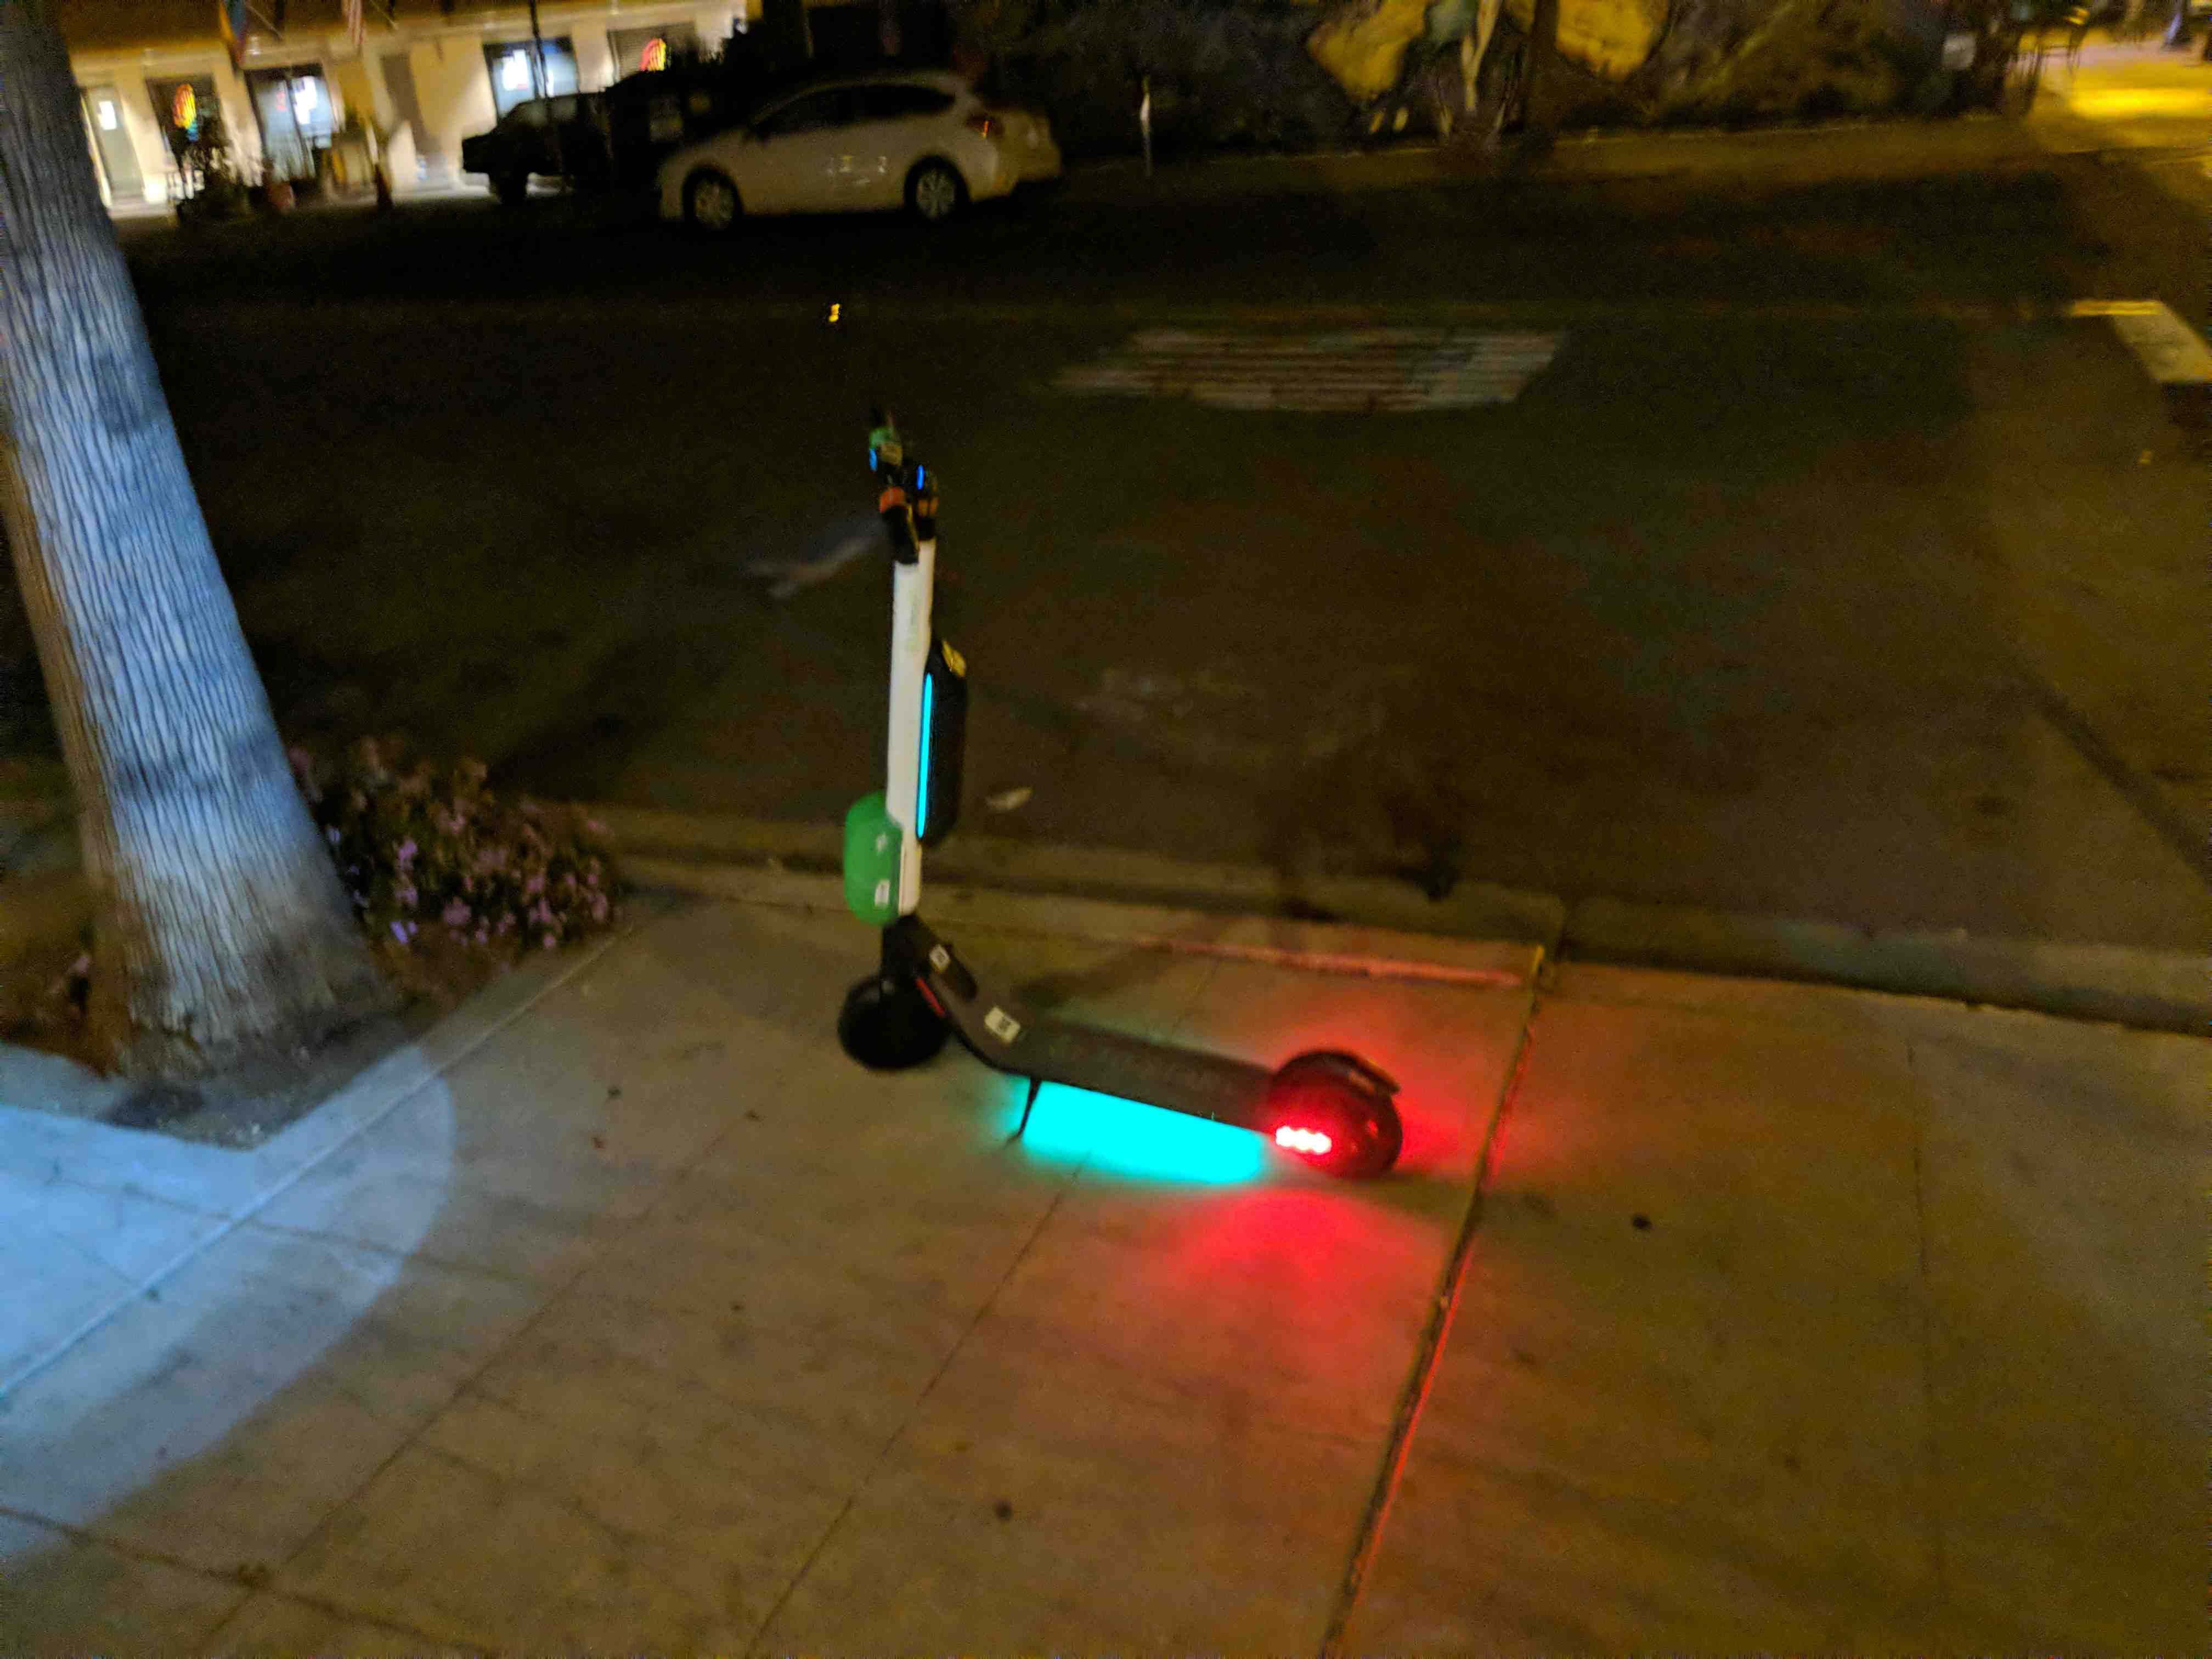scooter: (745, 369, 1465, 1218)
